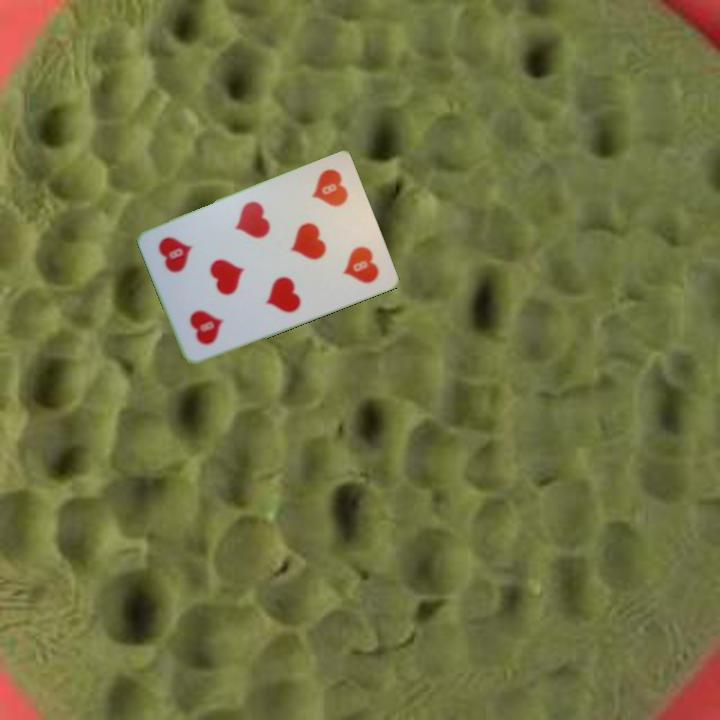h_8.png: (168, 274, 245, 356), (289, 161, 366, 243)
